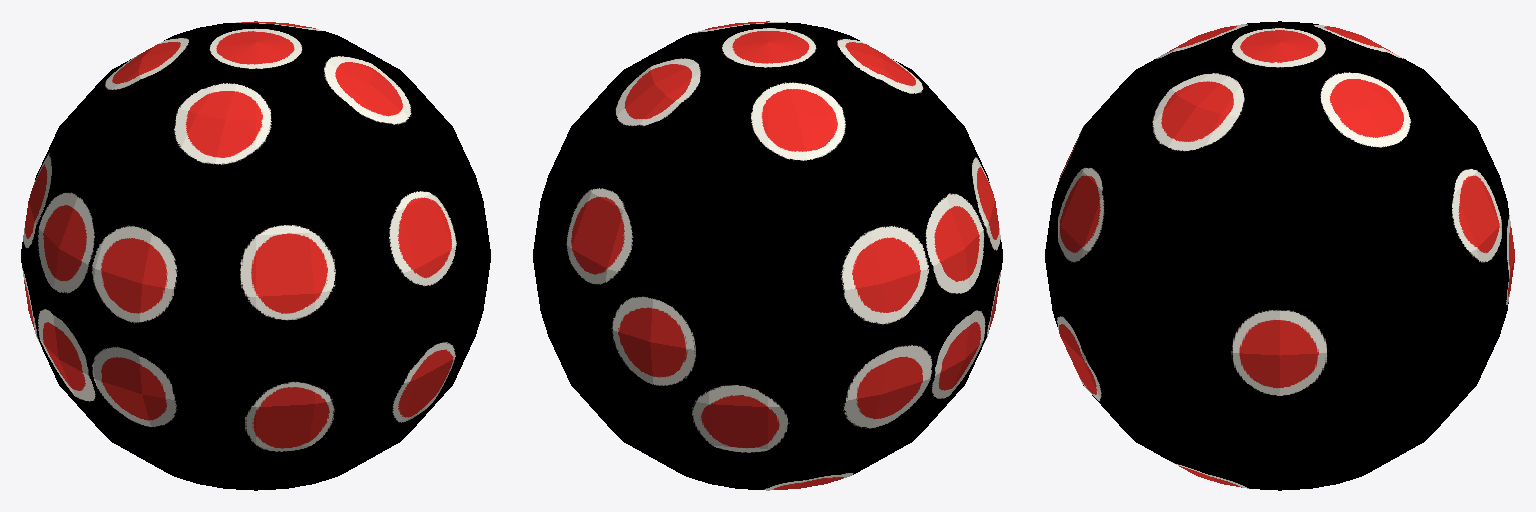
3 views of the same model, side by side, from view 1: azimuth 30°, elevation 25°; view 2: azimuth 150°, elevation 25°; view 3: azimuth 270°, elevation 25° (orthographic).
Parts seen in each view (by area): view 1: Sphere_None; view 2: Sphere_None; view 3: Sphere_None.
Boxes of the visible parts, box(x1,y1,x2,y2) form: Sphere_None: box(21, 21, 490, 490); Sphere_None: box(533, 21, 1002, 490); Sphere_None: box(1045, 21, 1514, 490).
Size of the model in its own units: 2 by 2 by 2.
Materials: 1 (1 with a texture image).